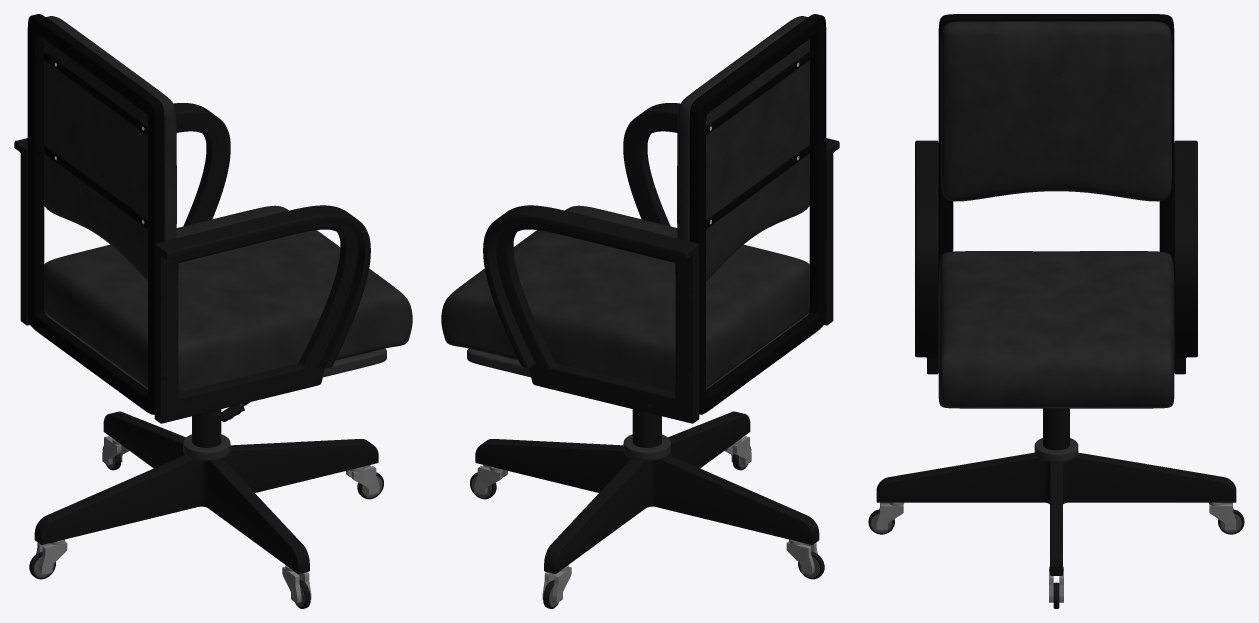
File: Office chair.fbx
3 views of the same model, side by side, from view 1: azimuth 30°, elevation 25°; view 2: azimuth 150°, elevation 25°; view 3: azimuth 270°, elevation 25° (orthographic). The views are drawn at different scales.
Visible parts, largest first — view 1: Office_chair_Mesh; view 2: Office_chair_Mesh; view 3: Office_chair_Mesh.
Boxes of the visible parts, x1,y1,x2,y2 form: Office_chair_Mesh: (14, 14, 412, 608); Office_chair_Mesh: (441, 14, 839, 608); Office_chair_Mesh: (868, 14, 1244, 608).
Bounding box in the file's own units: 694 × 954 × 694.
3 materials, 3 textured.
